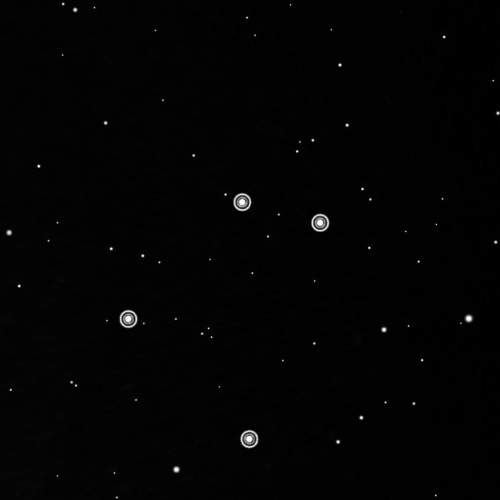coma_berenices: (112, 187, 334, 453)
